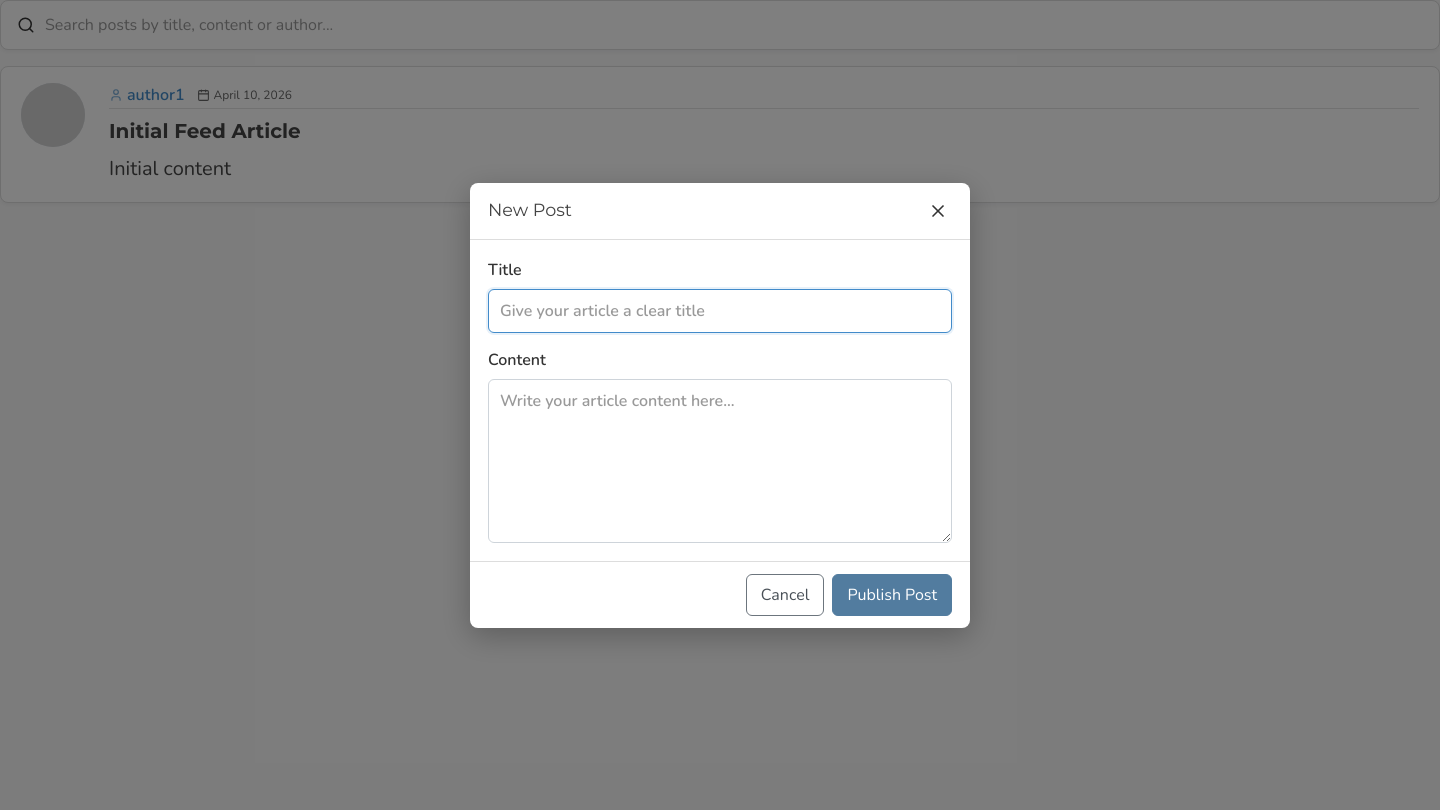
Test: components/CreatePostModal › automatically refreshes active HomePage feed when post creation succeeds
This screenshot has width=1440, height=810.
Check: the link "Initial Feed Article" is shown, box [109,119,301,143]
Type "Brand New Article" into the field with placeholder "Give your article a clear title" at {"x": 720, "y": 310}, box [488,288,952,332]
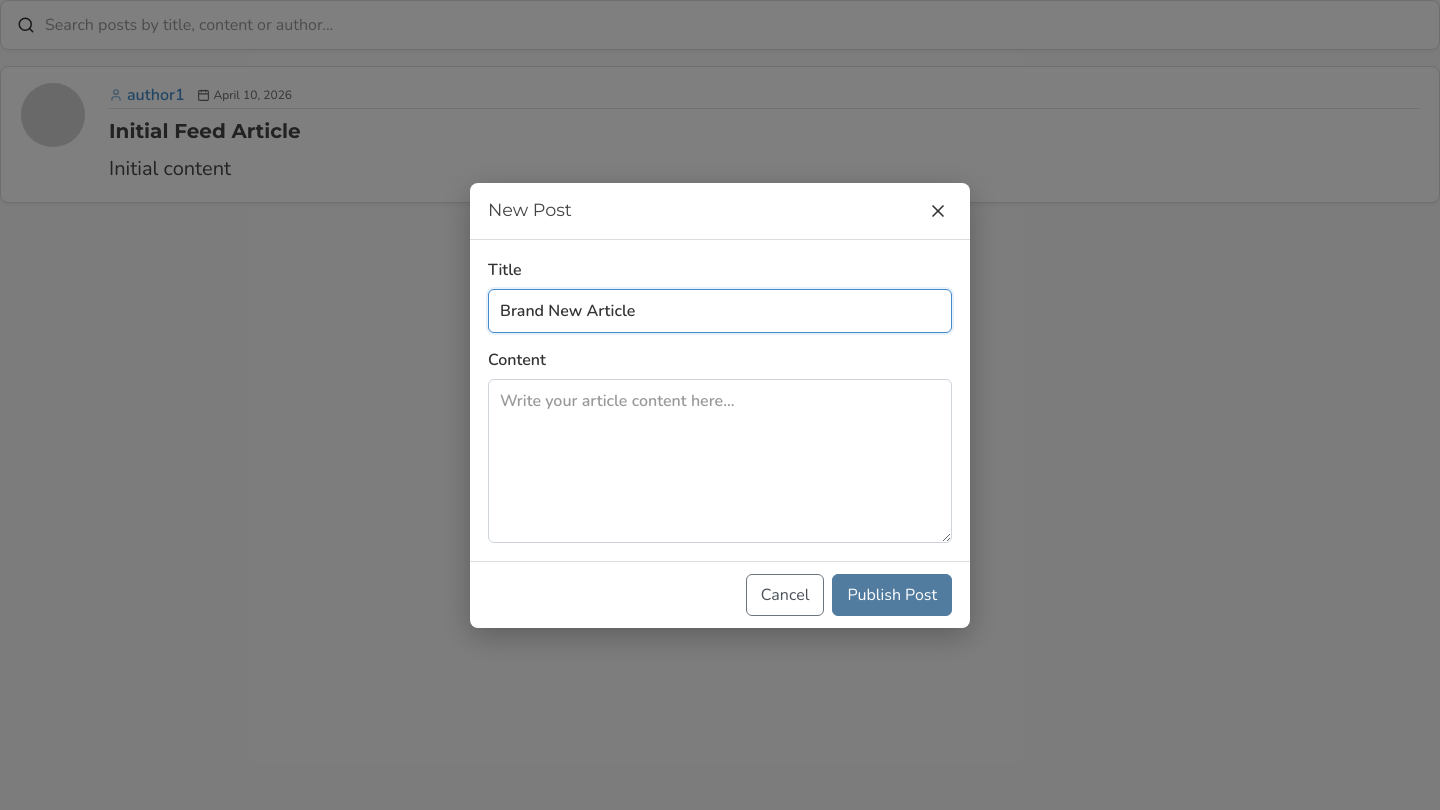
Type "Freshly created content" into the text box with placeholder "Write your article content here..." at {"x": 720, "y": 460}, box [488,378,952,542]
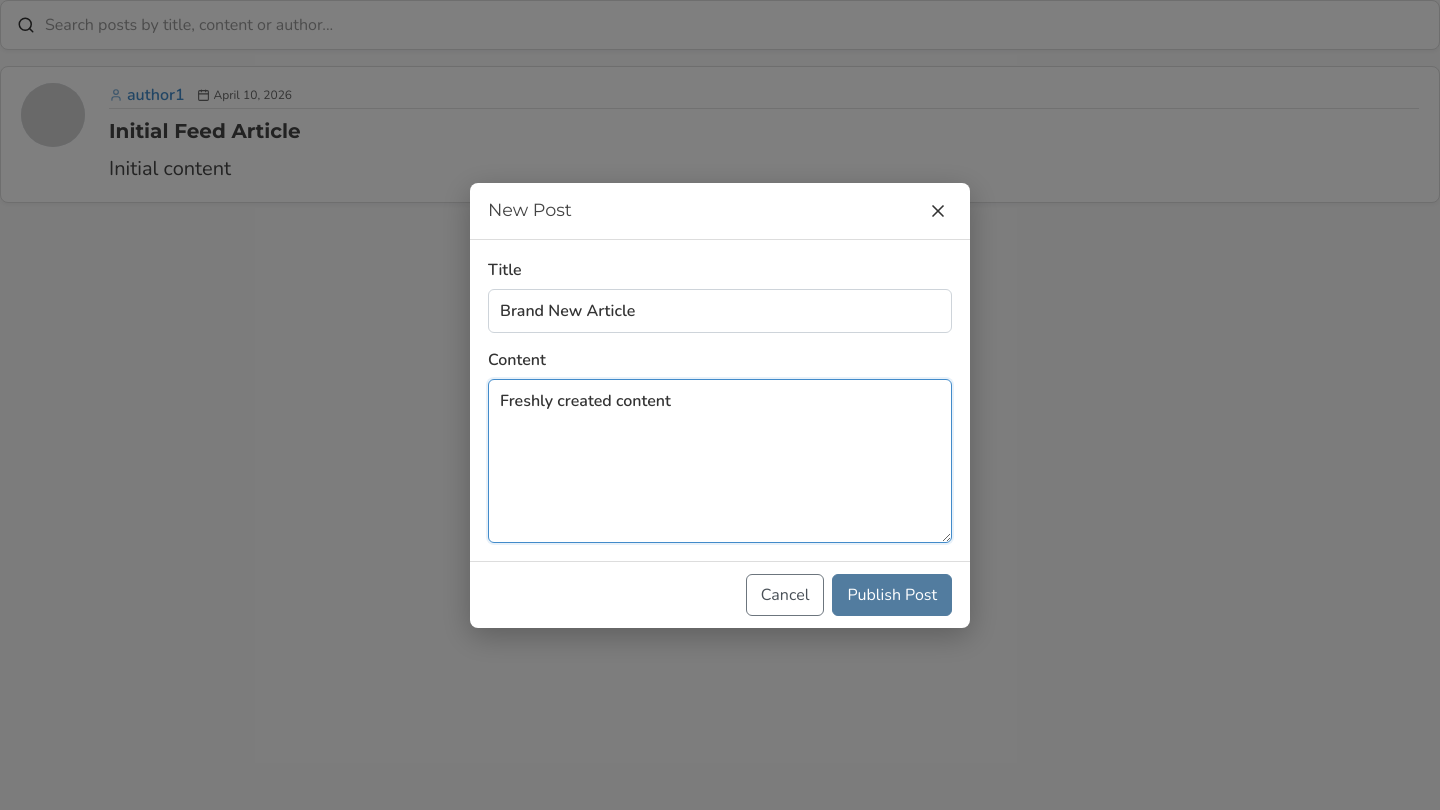
Click the button "Publish Post" at {"x": 892, "y": 594}, box [832,574,952,616]
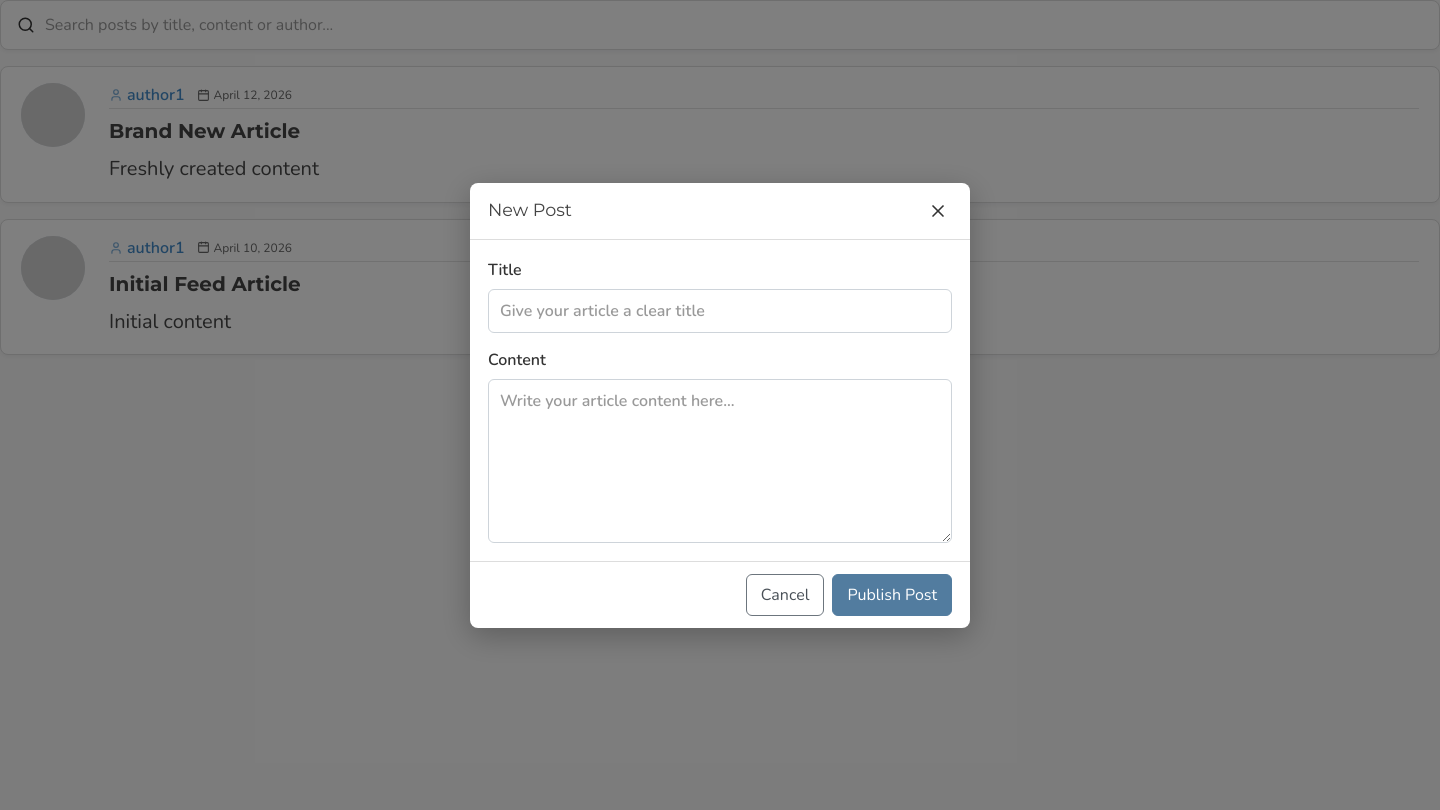
Check: the link "Initial Feed Article" is shown, box [109,272,301,296]
Check: the link "Brand New Article" is shown, box [109,119,300,143]
